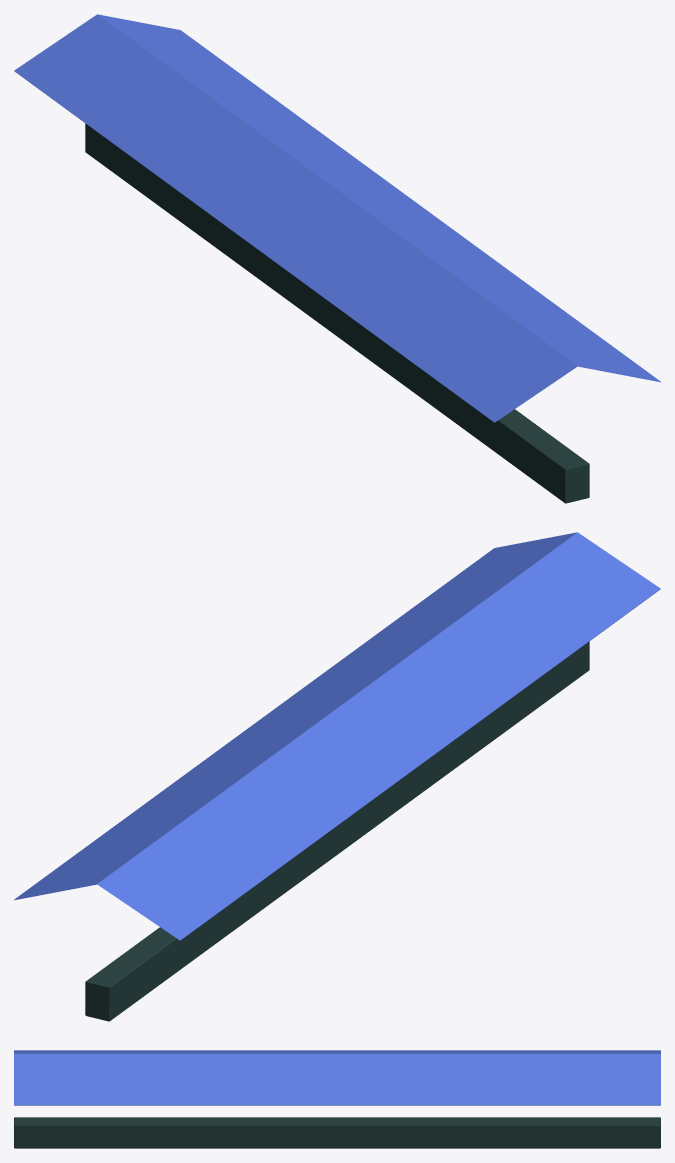
File: SM_Straight_5m.fbx
The picture shows the model from 3 angles, top to bottom: view 1: azimuth 30°, elevation 25°; view 2: azimuth 150°, elevation 25°; view 3: azimuth 270°, elevation 25°; orthographic projection. The views are drawn at different scales.
Visible parts, largest first — view 1: SM_Straight_5m_LOD0; view 2: SM_Straight_5m_LOD0; view 3: SM_Straight_5m_LOD0.
Part boxes in pixels (left/top/right/bottom): SM_Straight_5m_LOD0: left=14, top=14, right=660, bottom=503; SM_Straight_5m_LOD0: left=14, top=532, right=660, bottom=1021; SM_Straight_5m_LOD0: left=14, top=1050, right=660, bottom=1148.
Size of the model in its own units: 100 by 77.69 by 500.
